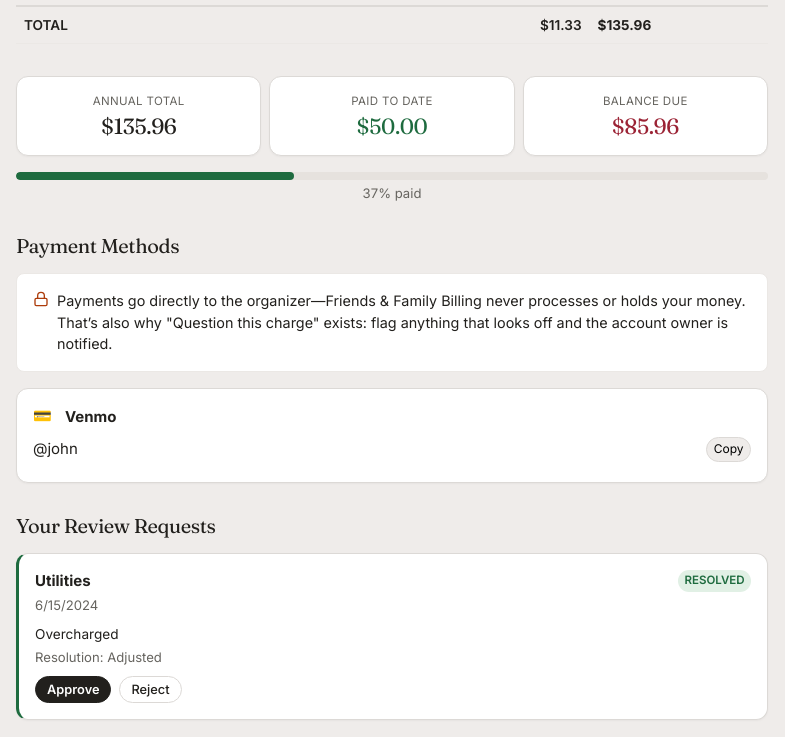
Test case: ShareView › Dispute approval and rejection › clicking Approve POSTs to /submitDisputeDecision and shows approved message
(page scrolled)
What coordinates should you click on to do the following:
click the button "Approve"
I would click on:
 (73, 690)
Its box is [35,676,112,703].
(page scrolled)
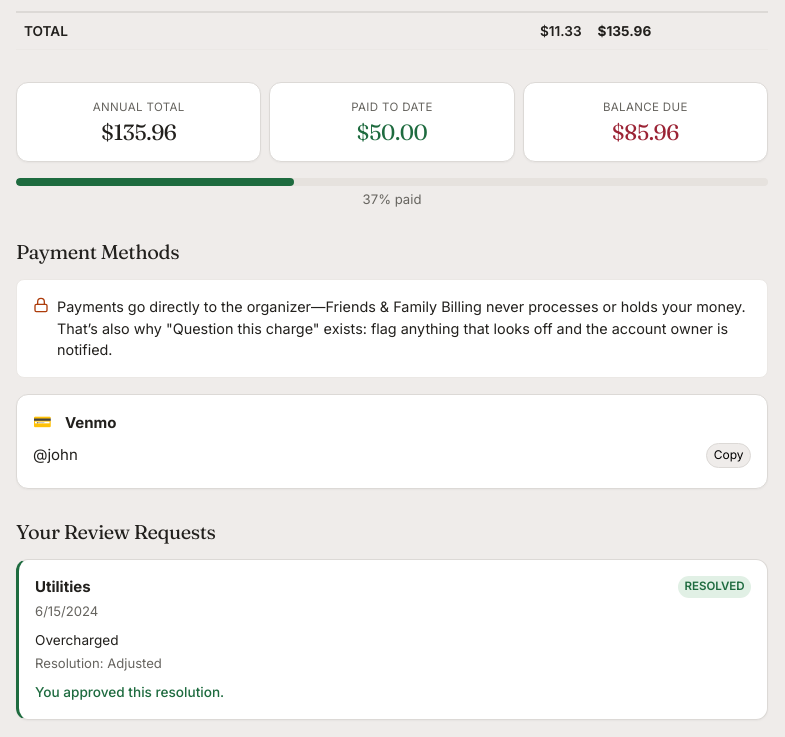
Expected: the text "You approved this resolution." is shown, [35,684,224,700]
